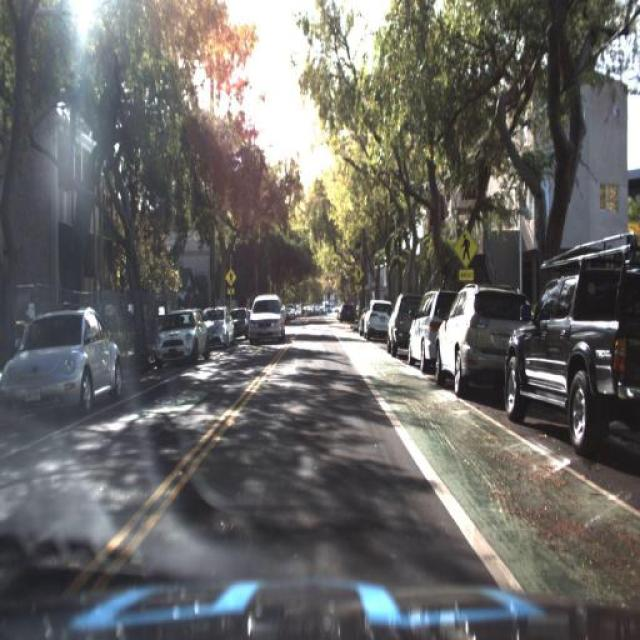car: (499, 227, 631, 447), (1, 302, 124, 430), (429, 282, 537, 391), (402, 288, 451, 369), (152, 308, 210, 368), (384, 293, 424, 356), (244, 294, 290, 344), (247, 292, 286, 344), (362, 296, 397, 346), (203, 302, 239, 349)
